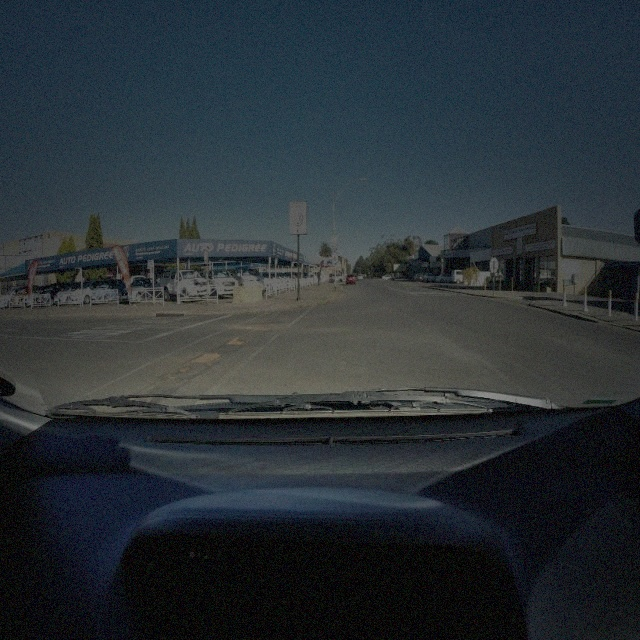pothole: (190, 350, 221, 364), (225, 335, 246, 345), (179, 366, 190, 372)
